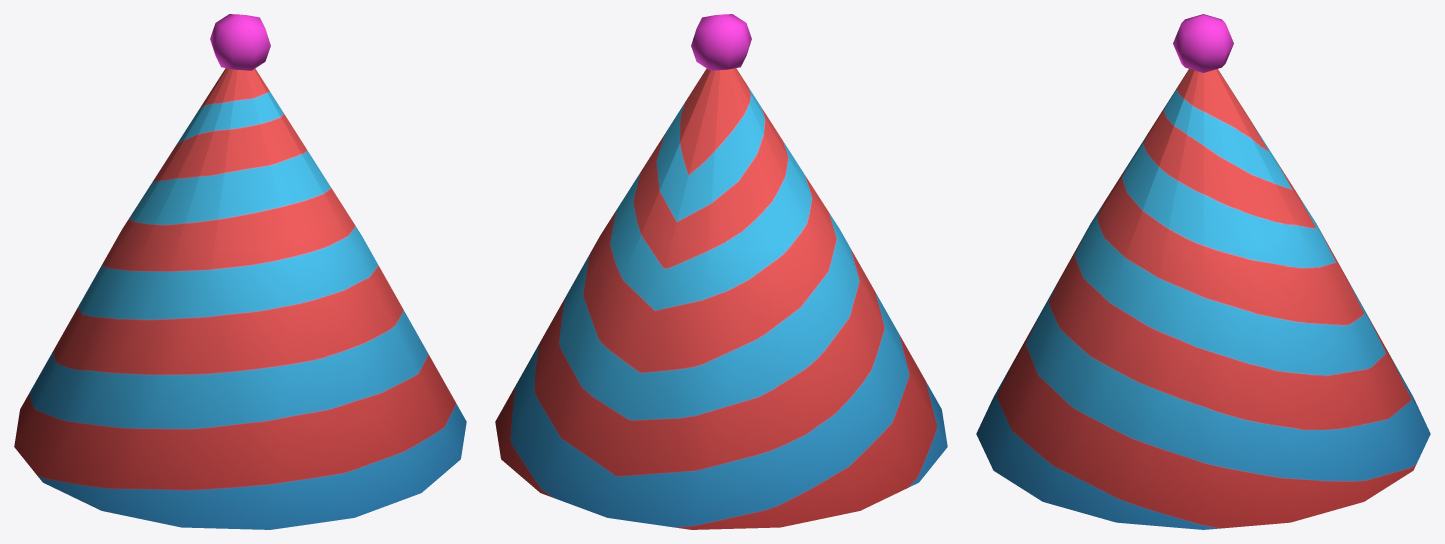
The model's file is BirthdayHat.fbx.
3 views of the same model, side by side, from view 1: azimuth 30°, elevation 25°; view 2: azimuth 150°, elevation 25°; view 3: azimuth 270°, elevation 25° (orthographic).
Parts seen in each view (by area): view 1: BrithdayHat; view 2: BrithdayHat; view 3: BrithdayHat.
Part boxes in pixels (bbox=[...]): BrithdayHat: bbox=[14, 14, 466, 529]; BrithdayHat: bbox=[495, 14, 947, 529]; BrithdayHat: bbox=[976, 14, 1430, 529].
Size of the model in its own units: 23.66 by 24.01 by 23.66.
